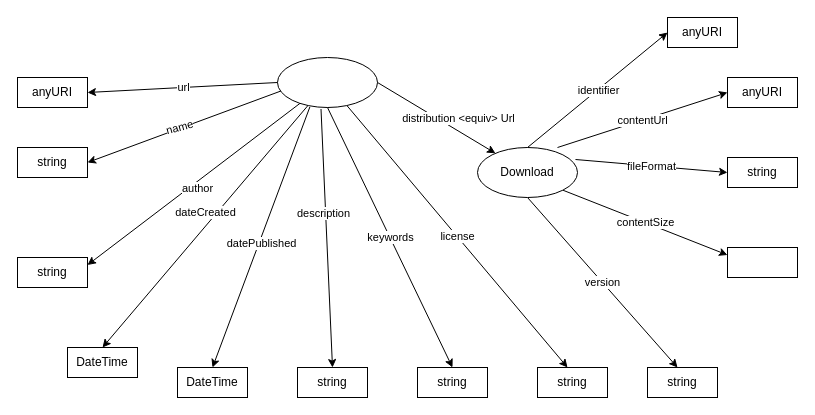
This 815x415 diagram has some shape labels left out. The shapes that lost their labels are listed below. From the top down, each one's centre as x and y in pixels, then its label:
At pixel 327 82: "Dataset".
At pixel 762 262: "long".
